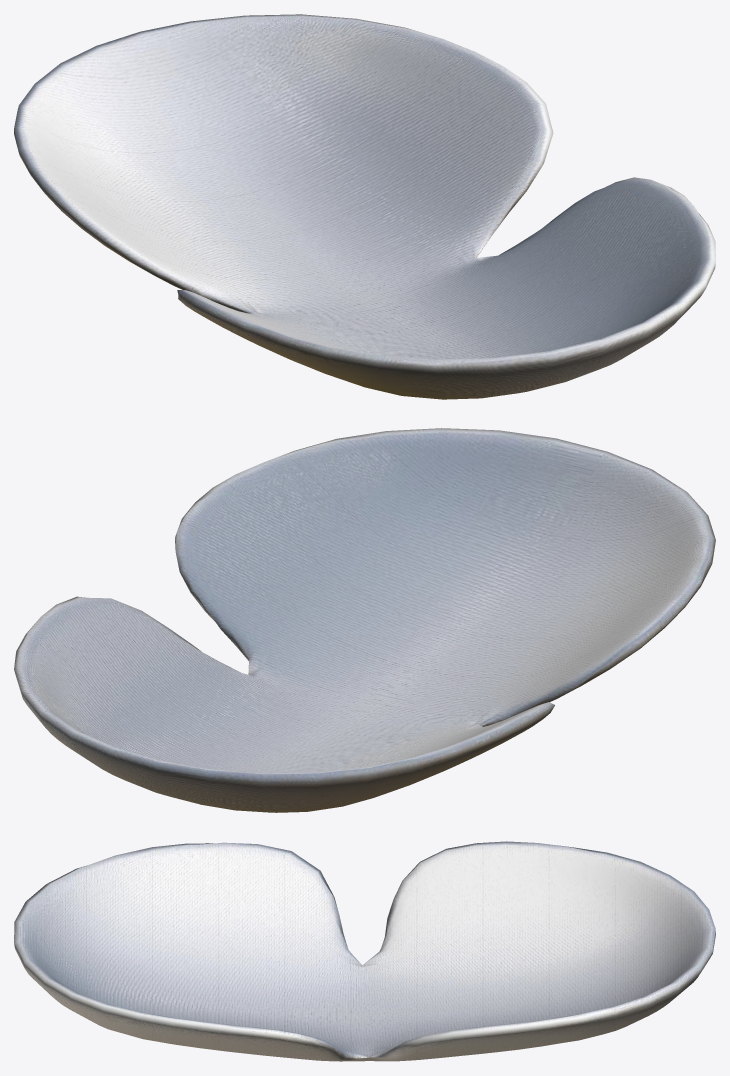
File: 20_EarlyForm4.glb
The picture shows the model from 3 angles, top to bottom: view 1: azimuth 30°, elevation 25°; view 2: azimuth 150°, elevation 25°; view 3: azimuth 270°, elevation 25°; orthographic projection. The views are drawn at different scales.
Visible parts, largest first — view 1: 20_Early Form4; view 2: 20_Early Form4; view 3: 20_Early Form4.
Part boxes in pixels (bbox=[...]): 20_Early Form4: bbox=[14, 14, 715, 399]; 20_Early Form4: bbox=[14, 428, 715, 812]; 20_Early Form4: bbox=[14, 841, 715, 1061].
Bounding box in the file's own units: 0.042 × 0.0106 × 0.0664.
1 material, 1 textured.
